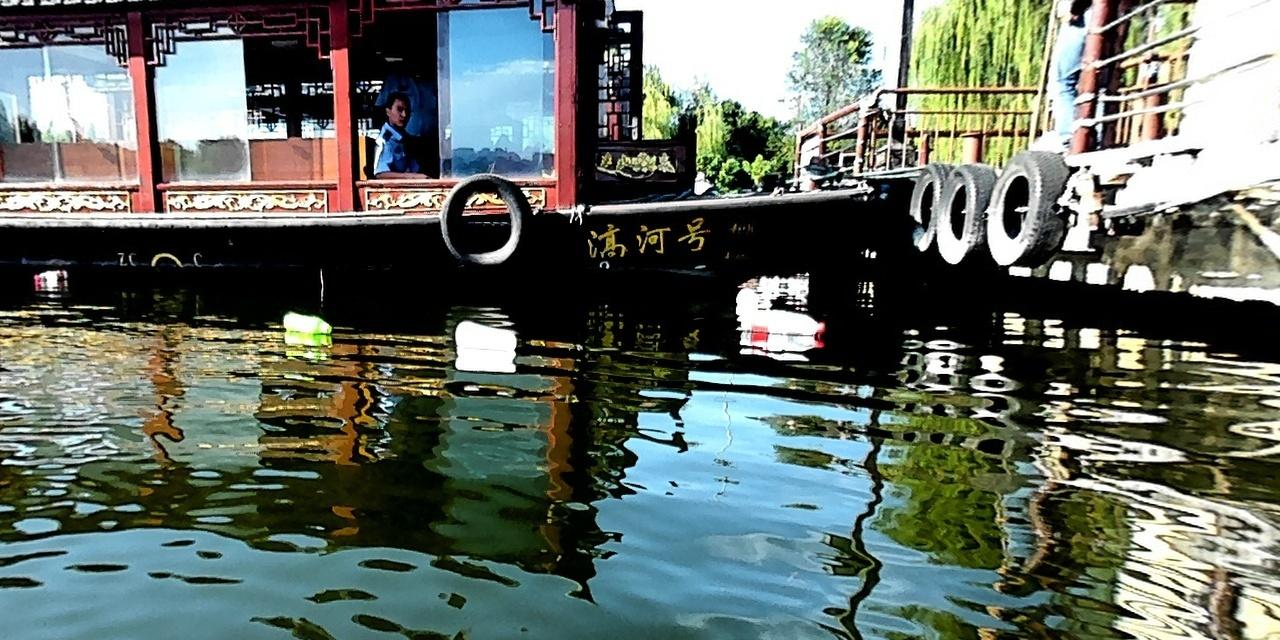bottle: (737, 307, 823, 342), (452, 319, 516, 348), (282, 311, 330, 335), (33, 266, 66, 285)
